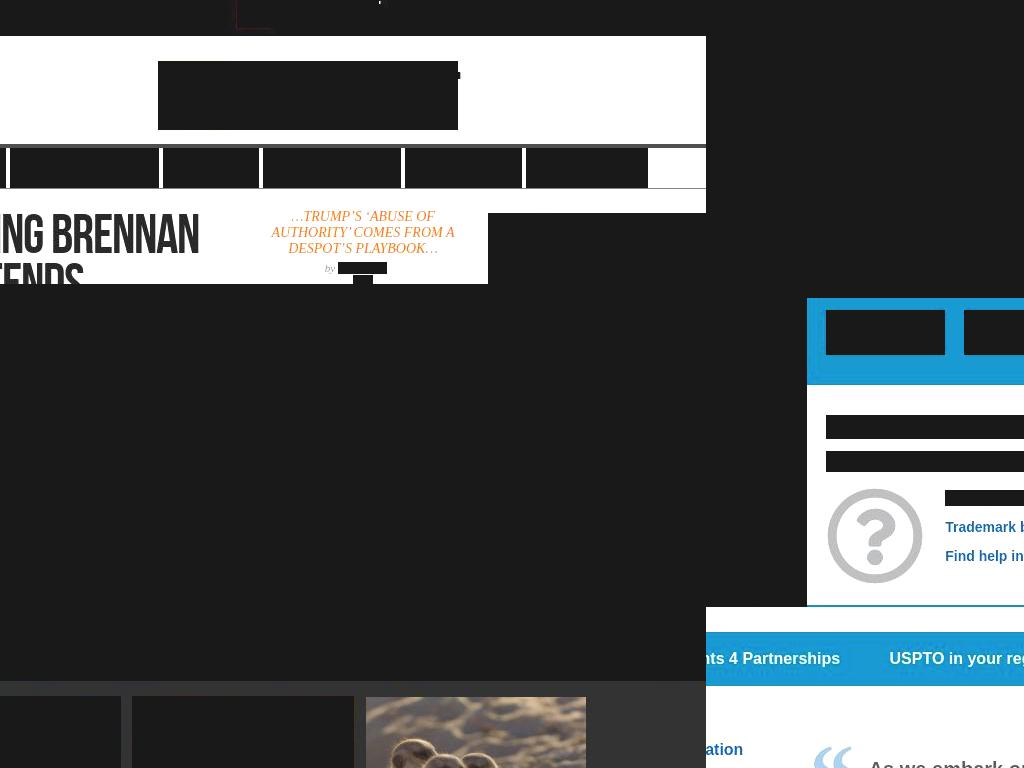button: (0, 284, 706, 681), (158, 61, 458, 130), (747, 144, 911, 245), (132, 696, 354, 768), (365, 696, 587, 768), (0, 696, 121, 768), (10, 148, 159, 188), (263, 148, 401, 188), (826, 310, 945, 355), (526, 148, 648, 188), (405, 148, 522, 188), (237, 0, 379, 28), (163, 148, 259, 188), (964, 310, 1024, 355)
heading: (0, 499, 219, 553), (271, 209, 455, 256), (826, 415, 1024, 439)
iframe: (793, 4, 1024, 94)
image: (0, 284, 706, 760), (706, 284, 807, 607), (740, 136, 925, 237), (132, 696, 354, 768), (365, 696, 587, 768), (0, 696, 121, 768)
link: (706, 0, 1024, 284), (67, 639, 252, 655), (889, 650, 1024, 667), (706, 650, 840, 667), (0, 465, 123, 482), (945, 490, 1024, 506), (945, 519, 1024, 535), (945, 548, 1024, 564), (0, 639, 41, 655), (338, 262, 387, 274)
text: (0, 550, 498, 607), (706, 0, 1024, 68), (826, 451, 1024, 472), (806, 284, 1024, 298), (592, 696, 706, 715), (868, 756, 1024, 768), (850, 324, 914, 341), (0, 438, 44, 458), (988, 324, 1024, 341), (706, 575, 735, 591), (734, 575, 747, 591), (353, 275, 373, 284), (51, 639, 58, 655)
